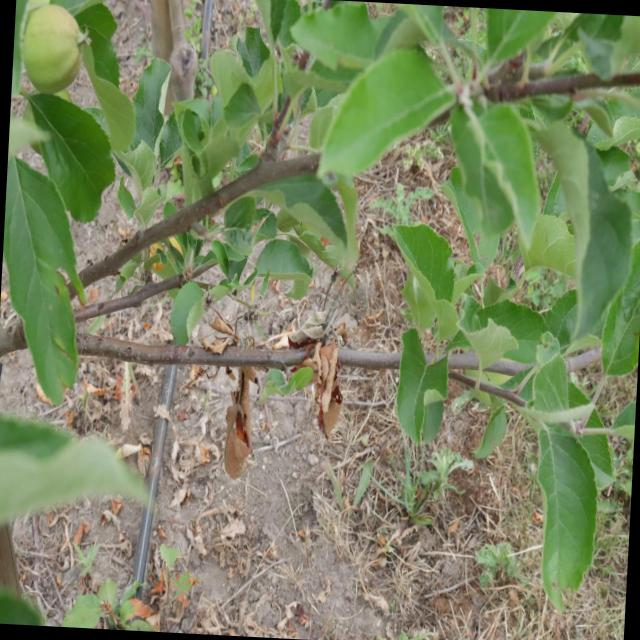-FireBlight-: (294, 316, 354, 436), (229, 356, 260, 481)
